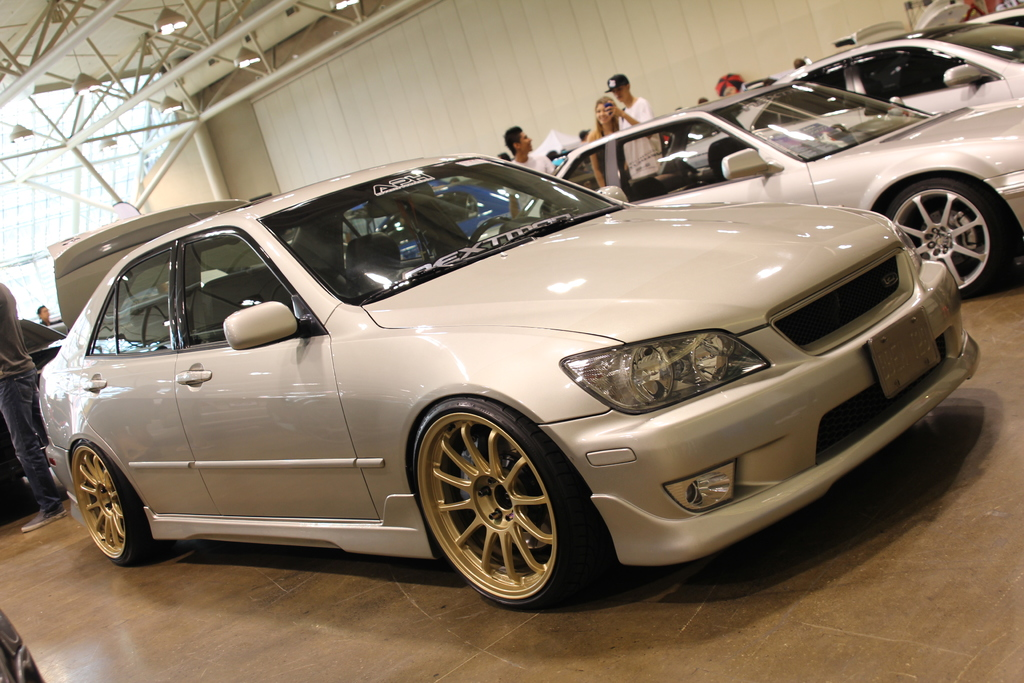Car: (35, 1, 1023, 567)
